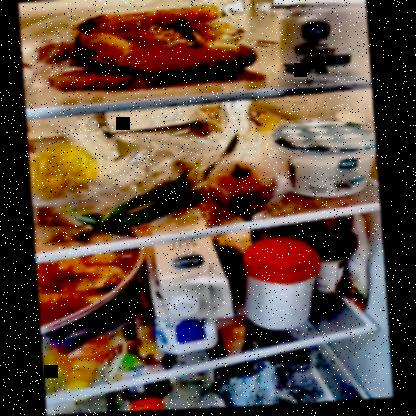broccoli: (209, 365, 322, 409)
carrot: (36, 8, 259, 93)
green_chillies: (65, 171, 206, 229)
lemon: (26, 143, 101, 199)
milk: (144, 242, 228, 353)
tomato: (206, 159, 275, 213)
yoghurt: (266, 2, 368, 87), (269, 121, 376, 197)
